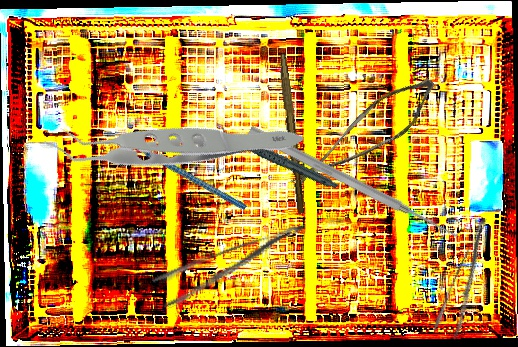Chopper: (107, 101, 247, 247)
Dressing Forceps: (150, 220, 316, 311), (430, 216, 507, 341)
Handpiece: (219, 105, 339, 211)
Micro Scissor: (290, 55, 443, 218)
Pusher: (246, 123, 461, 244)
Scalpel Handle: (274, 53, 309, 214)
Tissue Forceps: (37, 23, 306, 255)
